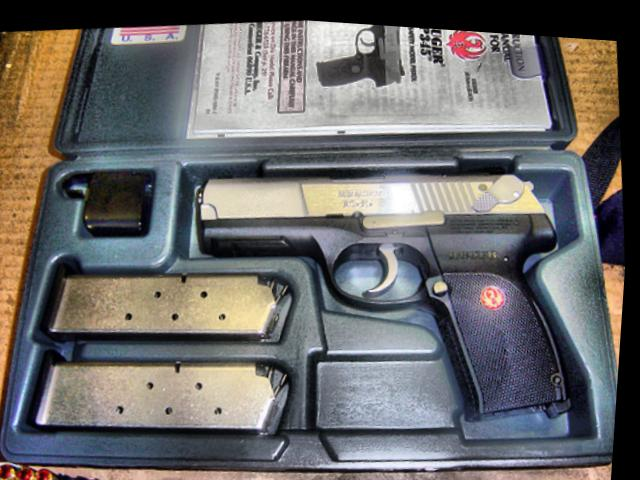pistol: (185, 130, 592, 449)
